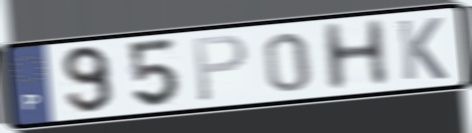0: (261, 30, 315, 93)
5: (125, 35, 184, 110)
9: (60, 42, 117, 118)
H: (318, 16, 394, 95)
K: (395, 15, 450, 83)
P: (191, 32, 251, 105)
